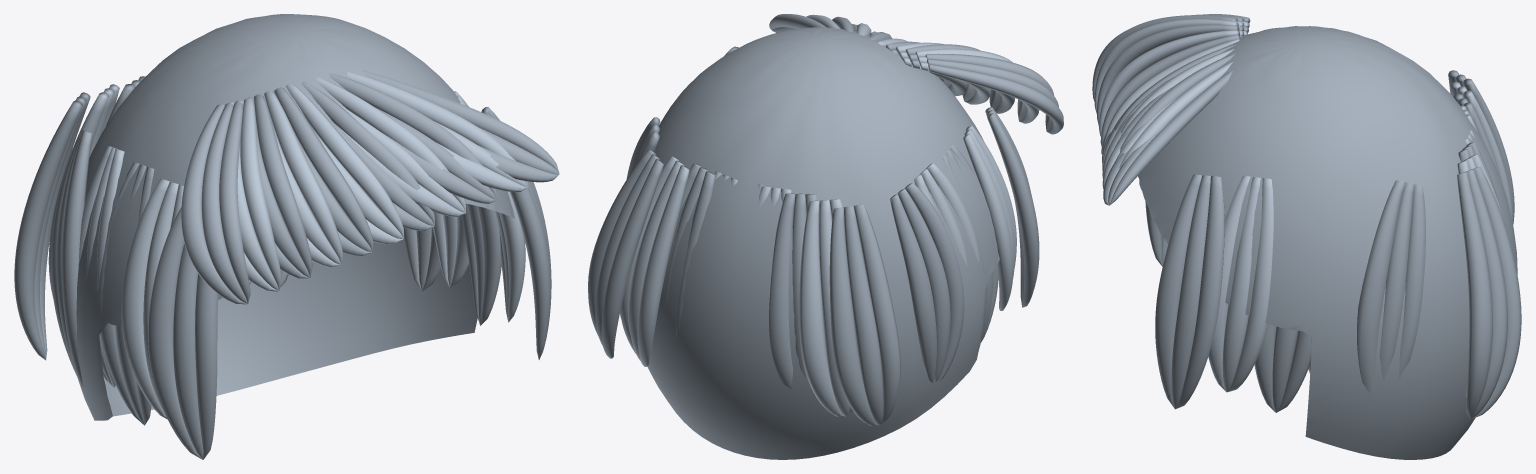
3 views of the same model, side by side, from view 1: azimuth 30°, elevation 25°; view 2: azimuth 150°, elevation 25°; view 3: azimuth 270°, elevation 25° (orthographic). The views are drawn at different scales.
Visible parts, largest first — view 1: CrownHair_male_ref12, SideHair_-1_0_Strand2, BackHair_00_Strand0, SideHair_-1_1_Strand2, SideHair_-1_0_Strand1, SideHair_-1_4_Strand0, FrontHair_Sweep_00_Strand2, SideHair_-1_0_Strand0, FrontHair_Sweep_00_Strand1, FrontHair_Sweep_00_Strand0, FrontHair_Sweep_01_Strand0, FrontHair_Sweep_02_Strand0 (+44 smaller); view 2: CrownHair_male_ref12, BackHair_00_Strand2, BackHair_01_Strand2, BackHair_00_Strand1, BackHair_00_Strand0, BackHair_07_Strand0, BackHair_02_Strand2, BackHair_08_Strand0, SideHair_-1_4_Strand2, SideHair_-1_0_Strand2, SideHair_-1_4_Strand0, SideHair_-1_4_Strand1 (+20 smaller); view 3: CrownHair_male_ref12, BackHair_08_Strand2, SideHair_1_0_Strand0, SideHair_1_4_Strand2, SideHair_1_0_Strand2, SideHair_1_0_Strand1, SideHair_1_1_Strand0, SideHair_1_1_Strand1, BackHair_08_Strand0, BackHair_08_Strand1, SideHair_1_4_Strand1, SideHair_1_4_Strand0 (+19 smaller).
Boxes of the visible parts, bbox=[...] form: CrownHair_male_ref12: bbox=[76, 14, 514, 420]; SideHair_-1_0_Strand2: bbox=[148, 207, 202, 459]; BackHair_00_Strand0: bbox=[14, 100, 82, 360]; SideHair_-1_1_Strand2: bbox=[121, 178, 169, 419]; SideHair_-1_0_Strand1: bbox=[173, 244, 203, 459]; SideHair_-1_4_Strand0: bbox=[62, 130, 92, 387]; FrontHair_Sweep_00_Strand2: bbox=[181, 104, 247, 304]; SideHair_-1_0_Strand0: bbox=[195, 273, 218, 459]; FrontHair_Sweep_00_Strand1: bbox=[201, 103, 247, 303]; FrontHair_Sweep_00_Strand0: bbox=[219, 102, 250, 303]; FrontHair_Sweep_01_Strand0: bbox=[240, 98, 281, 290]; FrontHair_Sweep_02_Strand0: bbox=[254, 94, 312, 277]; CrownHair_male_ref12: bbox=[647, 27, 999, 459]; BackHair_00_Strand2: bbox=[829, 207, 878, 425]; BackHair_01_Strand2: bbox=[799, 200, 845, 416]; BackHair_00_Strand1: bbox=[843, 206, 883, 424]; BackHair_00_Strand0: bbox=[853, 204, 900, 424]; BackHair_07_Strand0: bbox=[637, 165, 689, 366]; BackHair_02_Strand2: bbox=[769, 193, 795, 389]; BackHair_08_Strand0: bbox=[601, 159, 663, 358]; SideHair_-1_4_Strand2: bbox=[890, 194, 936, 382]; SideHair_-1_0_Strand2: bbox=[987, 113, 1039, 307]; SideHair_-1_4_Strand0: bbox=[904, 183, 964, 380]; SideHair_-1_4_Strand1: bbox=[897, 188, 950, 381]; CrownHair_male_ref12: bbox=[1138, 26, 1517, 459]; BackHair_08_Strand2: bbox=[1457, 172, 1492, 418]; SideHair_1_0_Strand0: bbox=[1175, 176, 1224, 409]; SideHair_1_4_Strand2: bbox=[1357, 180, 1405, 392]; SideHair_1_0_Strand2: bbox=[1155, 174, 1202, 408]; SideHair_1_0_Strand1: bbox=[1171, 175, 1210, 408]; SideHair_1_1_Strand0: bbox=[1227, 178, 1273, 392]; SideHair_1_1_Strand1: bbox=[1222, 177, 1260, 391]; BackHair_08_Strand0: bbox=[1471, 166, 1521, 418]; BackHair_08_Strand1: bbox=[1464, 169, 1507, 418]; SideHair_1_4_Strand1: bbox=[1379, 182, 1413, 380]; SideHair_1_4_Strand0: bbox=[1398, 184, 1425, 379].
Size of the model in its own units: 0.7249 by 0.7341 by 0.7346.
